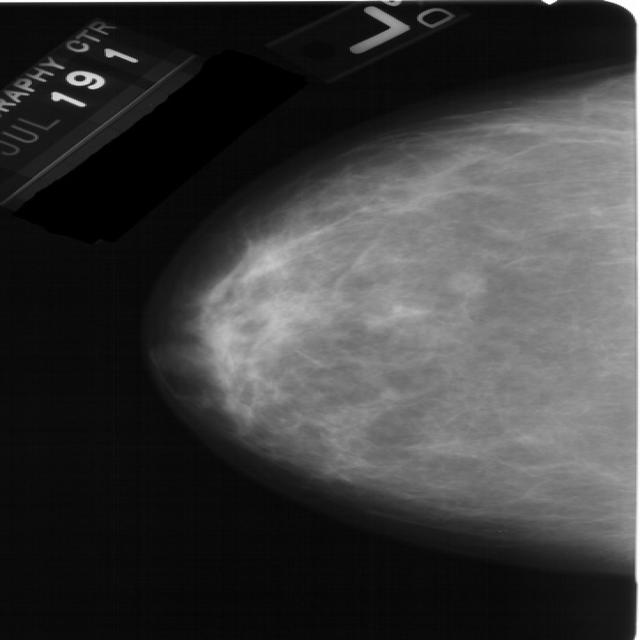tumour: (442, 270, 486, 297)
